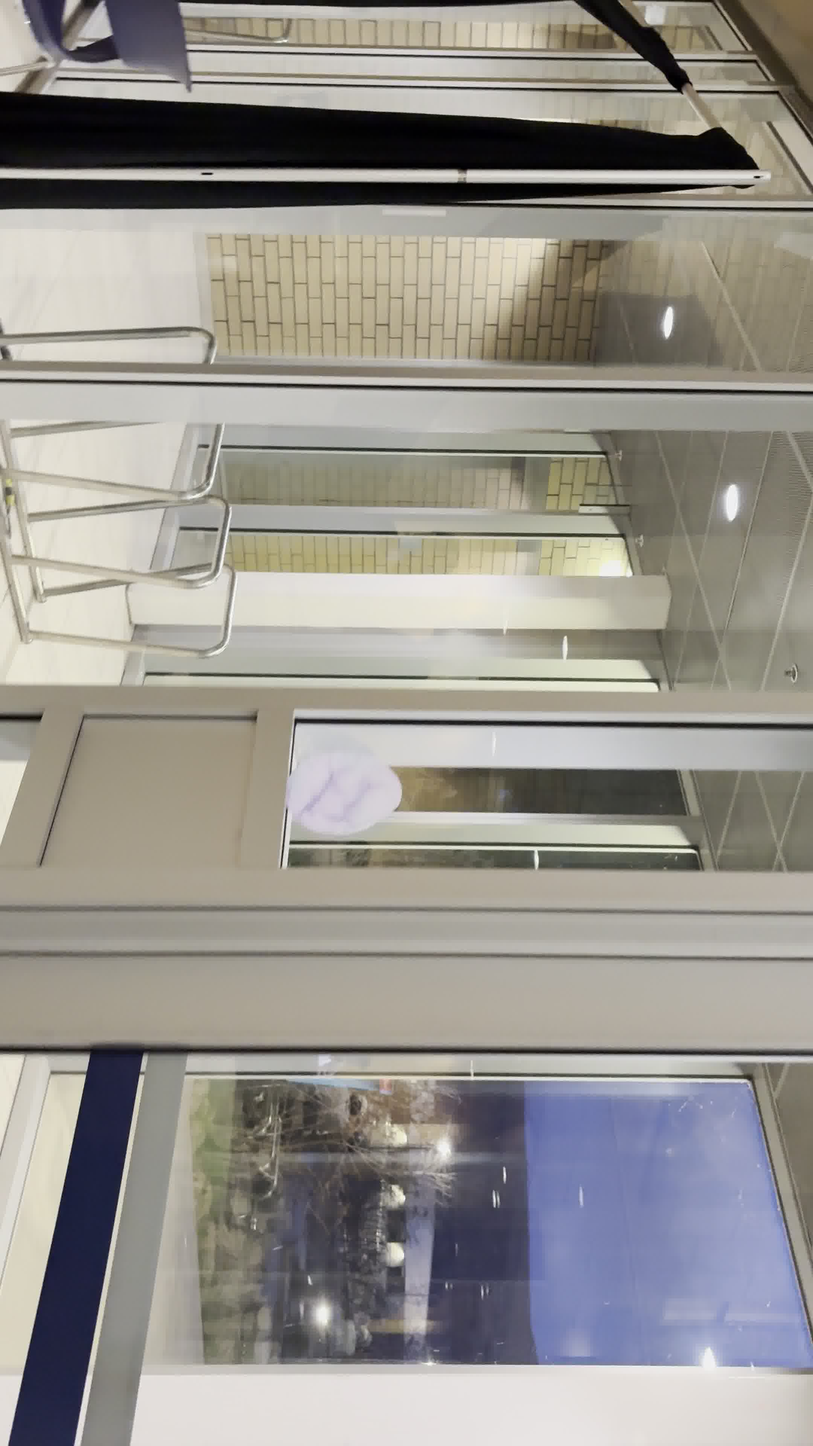Target: (284, 749, 404, 838)
